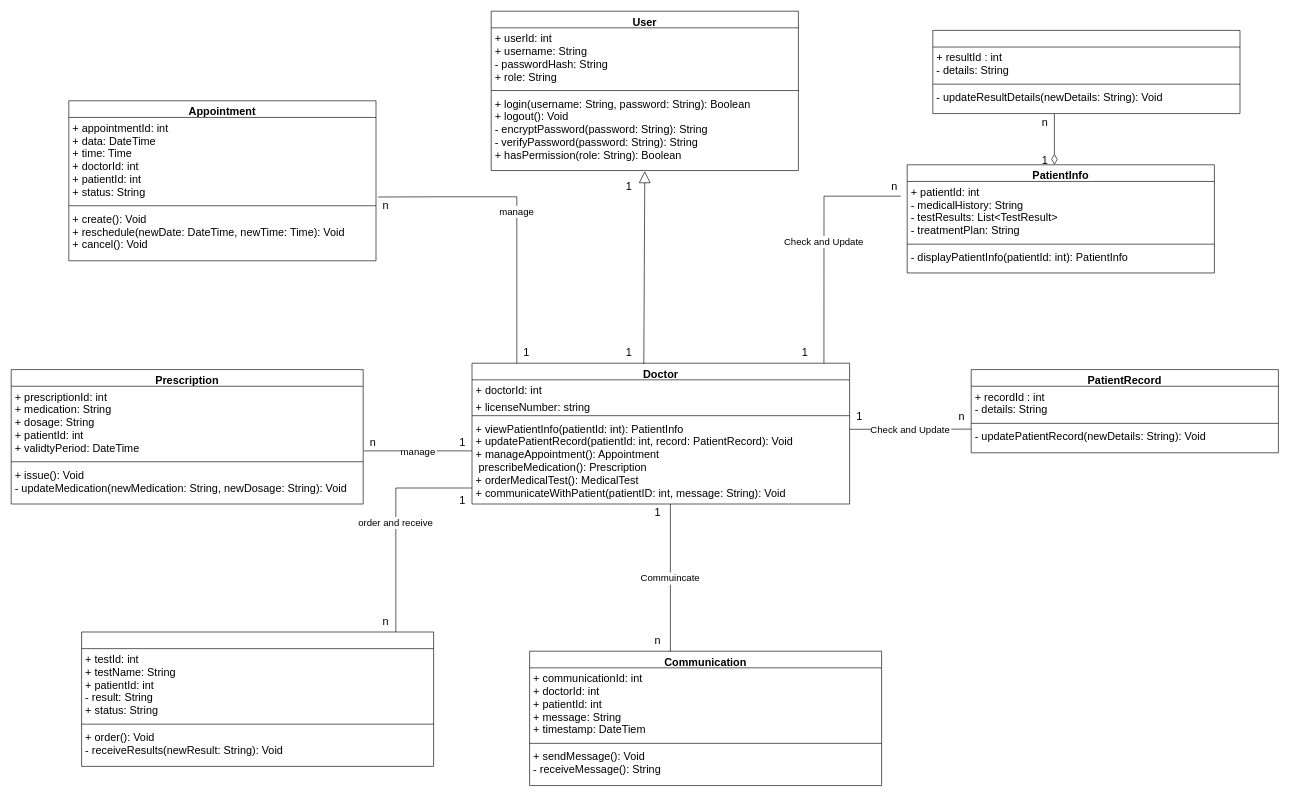
Image size: 1290x799. Some labels were removed from this diagram. The shapes that lost their labels are listed below. From the top down, each one's box as (x1, y1, x2, y2) in pixels, then its label:
(932, 30, 1240, 114): TestResult
(81, 631, 434, 766): MedicalTest
